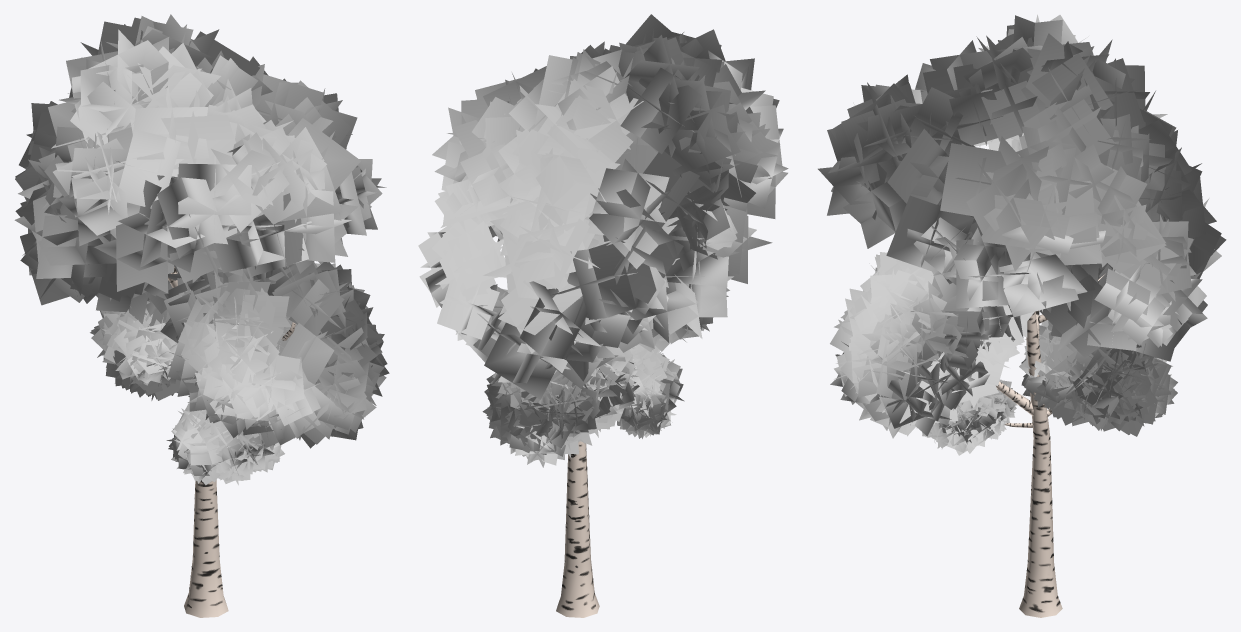
Rendered from tree_aspen4brad (3).fbx.
3 views of the same model, side by side, from view 1: azimuth 30°, elevation 25°; view 2: azimuth 150°, elevation 25°; view 3: azimuth 270°, elevation 25° (orthographic). The views are drawn at different scales.
Visible parts, largest first — view 1: Leaves; view 2: Leaves; view 3: Leaves.
Part boxes in pixels (x1,y1,x2,y2): Leaves: [14, 14, 389, 617]; Leaves: [418, 14, 788, 617]; Leaves: [818, 14, 1226, 617].
Size of the model in its own units: 2042 by 3648 by 2413.
